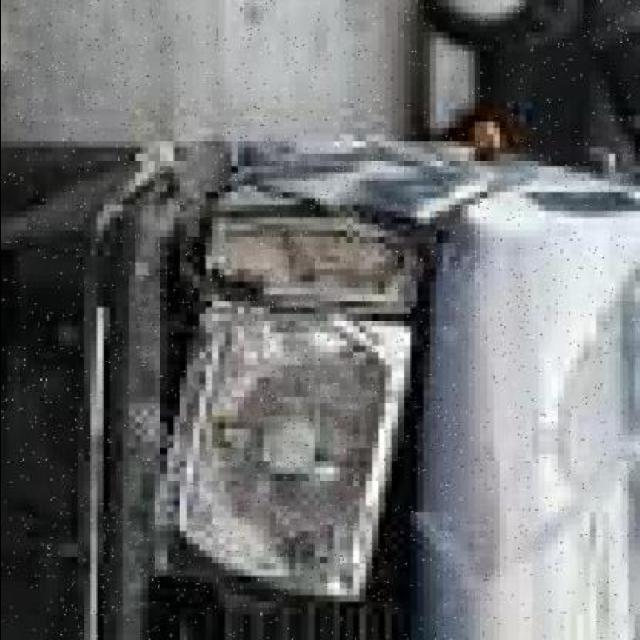Headlight-Damage: (128, 103, 442, 634)
